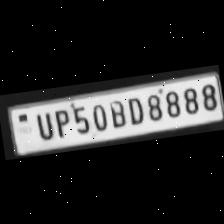0: (88, 100, 110, 132)
5: (68, 101, 91, 135)
8: (179, 82, 201, 116), (142, 90, 165, 122), (198, 80, 220, 113), (160, 86, 182, 118)
B: (106, 97, 128, 128)
D: (124, 93, 146, 125)
P: (50, 106, 72, 138)
U: (30, 106, 56, 140)
